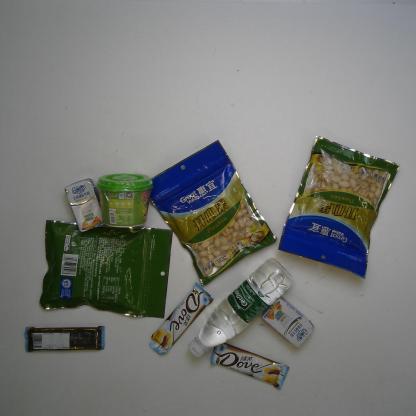Chocolate: (148, 275, 217, 357), (208, 338, 292, 392), (25, 322, 108, 356)
Dried Fruit: (144, 134, 280, 288), (276, 132, 406, 281), (34, 214, 179, 323)
Drink: (185, 260, 295, 359)
Instant Drink: (96, 169, 152, 229)
Milk: (254, 289, 316, 347), (63, 173, 105, 235)
